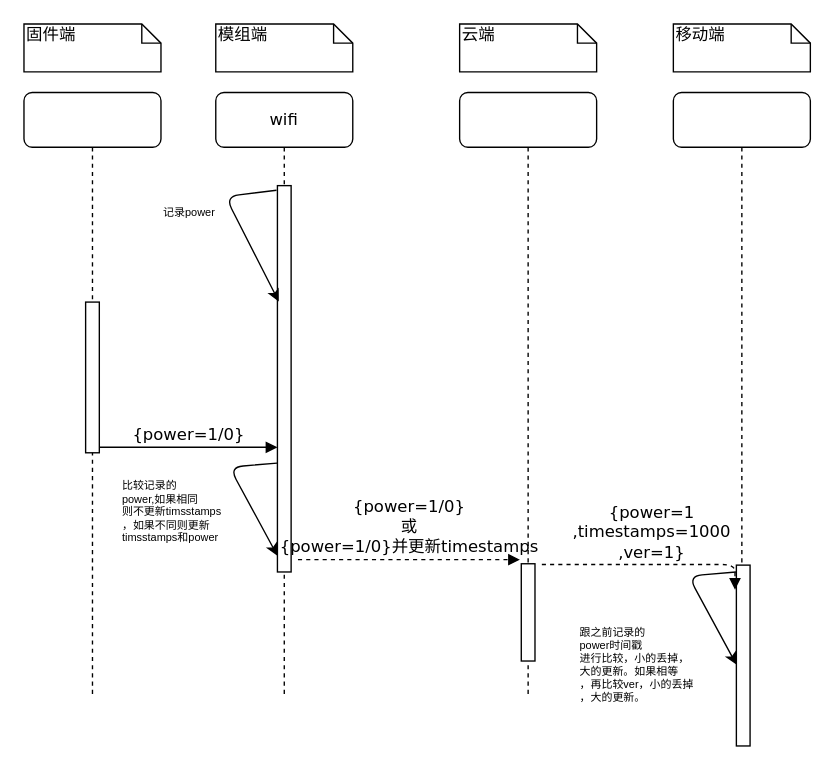
Image size: 834x770. Some labels were removed from this diagram. Here are the shapes that lost their labels. From the top down, the box of each, then its label:
(23, 91, 161, 695): mcu
(458, 91, 597, 695): shadow (cloud)
(672, 91, 810, 736): app
